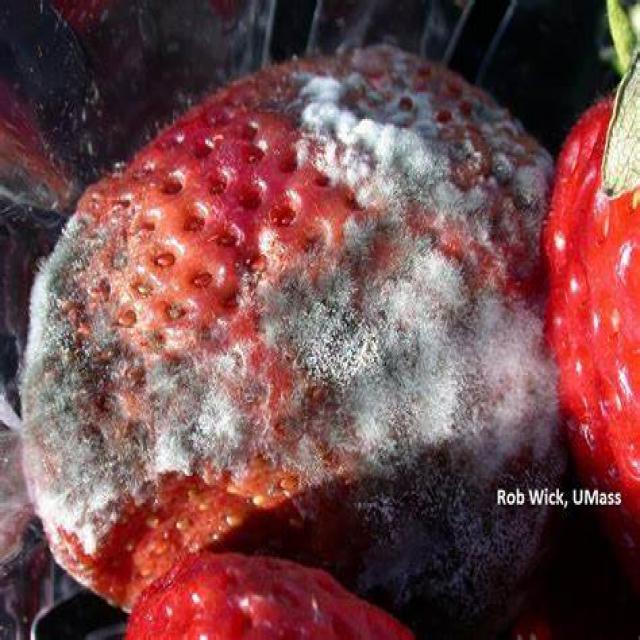Moho gris: (34, 34, 572, 597)
